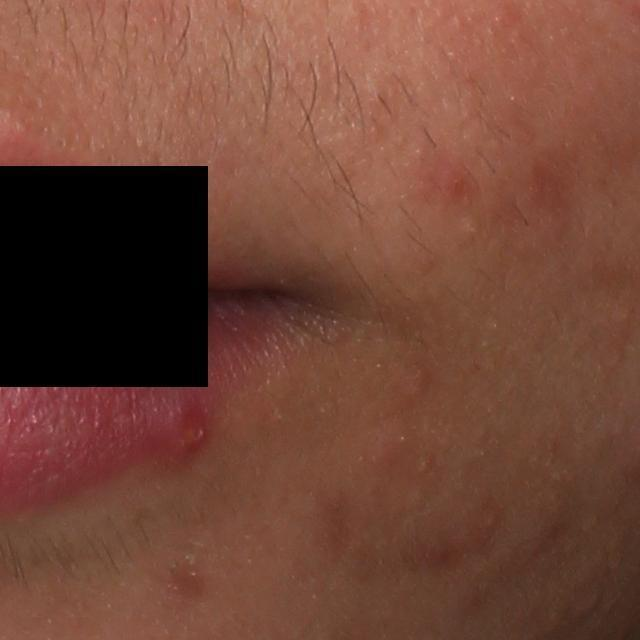comedo: (460, 216, 481, 243)
papule: (160, 404, 208, 464), (397, 367, 425, 399)
